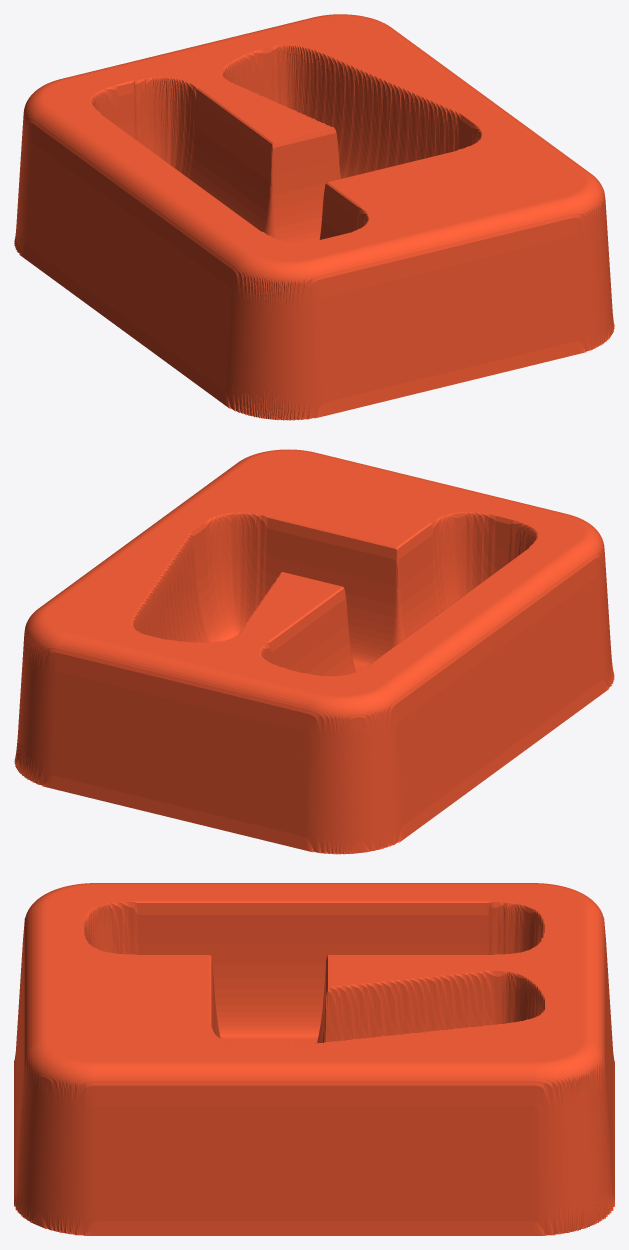
Rendered from mold.glb.
The picture shows the model from 3 angles, top to bottom: view 1: azimuth 30°, elevation 25°; view 2: azimuth 150°, elevation 25°; view 3: azimuth 270°, elevation 25°; orthographic projection. The views are drawn at different scales.
Visible parts, largest first — view 1: geometry_0; view 2: geometry_0; view 3: geometry_0.
Boxes of the visible parts, x1,y1,x2,y2 form: geometry_0: (14, 14, 614, 420); geometry_0: (14, 449, 614, 854); geometry_0: (14, 883, 614, 1235).
Size of the model in its own units: 0.0538 by 0.0197 by 0.067.
